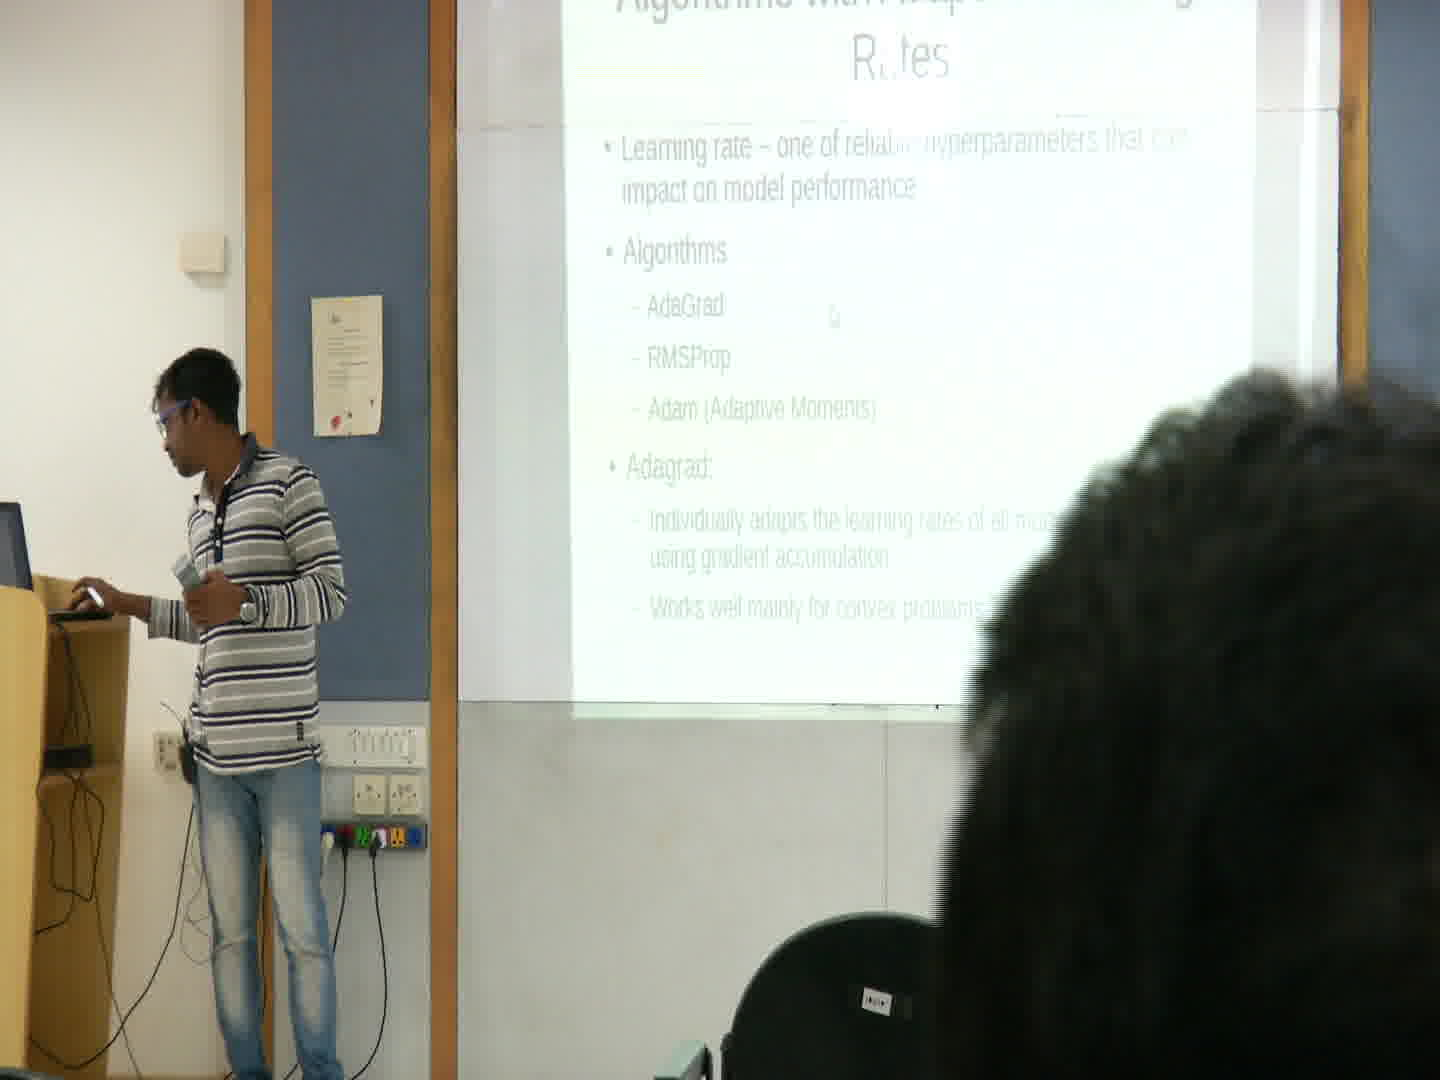slide: (564, 1, 1254, 725)
